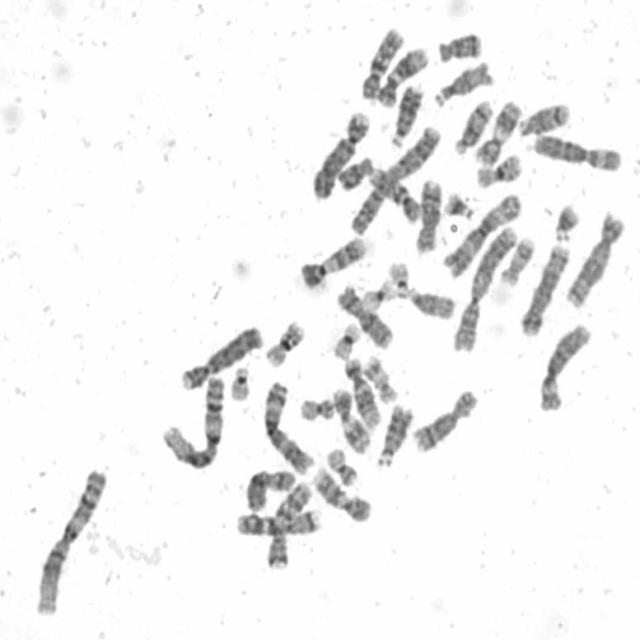A1: (29, 461, 109, 618), (156, 368, 228, 471)
A2: (345, 118, 444, 237), (447, 218, 520, 354)
A3: (438, 185, 524, 278), (257, 374, 315, 476)
B4: (176, 318, 264, 392), (306, 104, 372, 200)
B5: (561, 206, 626, 309), (514, 235, 572, 338)
C10: (356, 21, 405, 101), (364, 160, 423, 224)
C11: (470, 94, 523, 166), (327, 382, 372, 456)
C12: (371, 40, 430, 107), (339, 350, 382, 430)
C6: (533, 316, 594, 414), (529, 127, 624, 173)
C7: (261, 474, 315, 572), (231, 502, 323, 538)
C8: (409, 383, 480, 455), (410, 173, 444, 255)
C9: (296, 230, 368, 289), (308, 460, 374, 524)
D13: (371, 398, 415, 468), (386, 79, 425, 148)
D14: (449, 93, 494, 156), (513, 95, 573, 138)
D15: (429, 54, 494, 108), (401, 280, 457, 322)
E16: (260, 313, 306, 369), (471, 146, 525, 188)
E17: (496, 230, 537, 286), (360, 349, 400, 406)
E18: (432, 24, 483, 64), (332, 150, 375, 192)
F19: (357, 272, 397, 311), (328, 317, 362, 360)
F20: (321, 441, 360, 488), (294, 391, 337, 422)
G21: (548, 196, 582, 242), (439, 186, 477, 220)
G22: (383, 254, 411, 299), (225, 360, 252, 402)
X: (333, 280, 396, 350), (240, 462, 296, 513)
